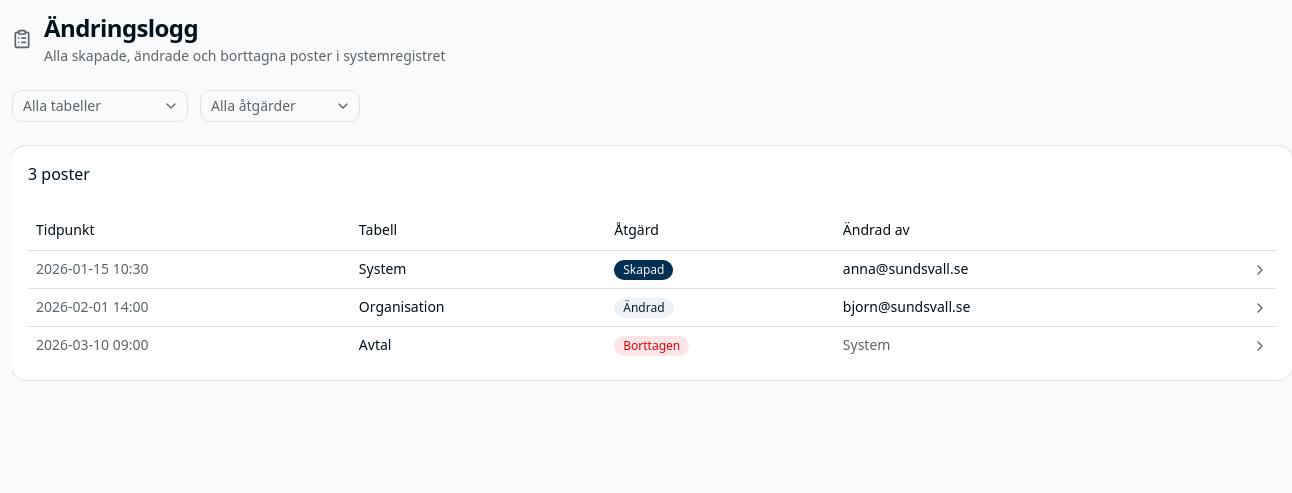
Test: AuditPage › Expanderbar rad med detaljer › expanderar rad vid klick och visar JSON-diff
Expected: the text "Organisation" is shown, x1=351 y1=288 x2=606 y2=326
Click the row "2026-02-01 14:00 Organisation Ändrad bjorn@sundsvall.se" at (652, 307), box x1=28 y1=288 x2=1276 y2=326
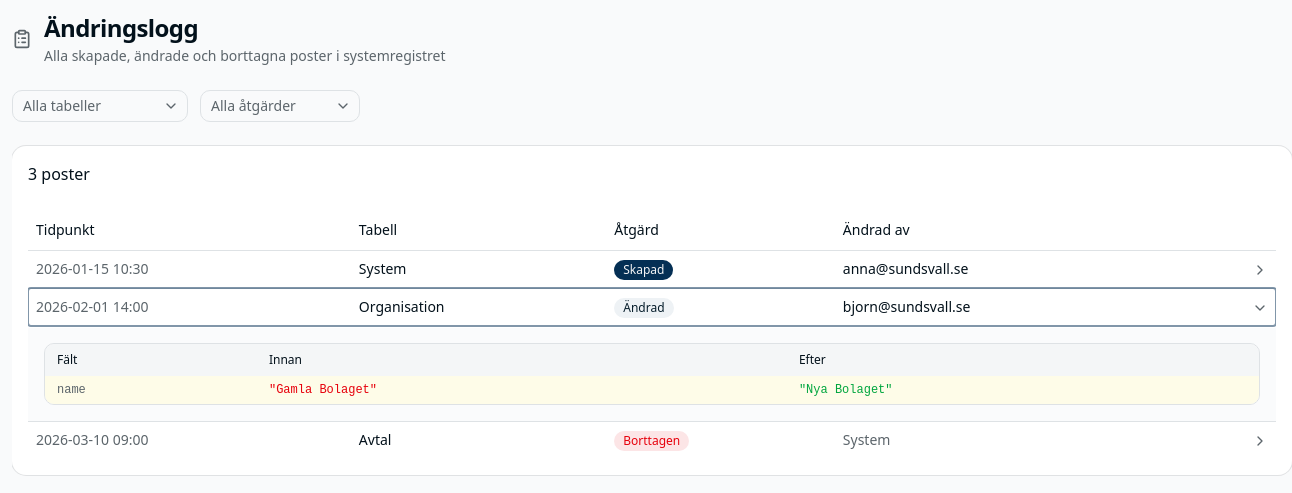
Expected: the column heading "Innan" is shown, x1=257 y1=344 x2=787 y2=376
Expected: the column heading "Efter" is shown, x1=787 y1=344 x2=1259 y2=376
